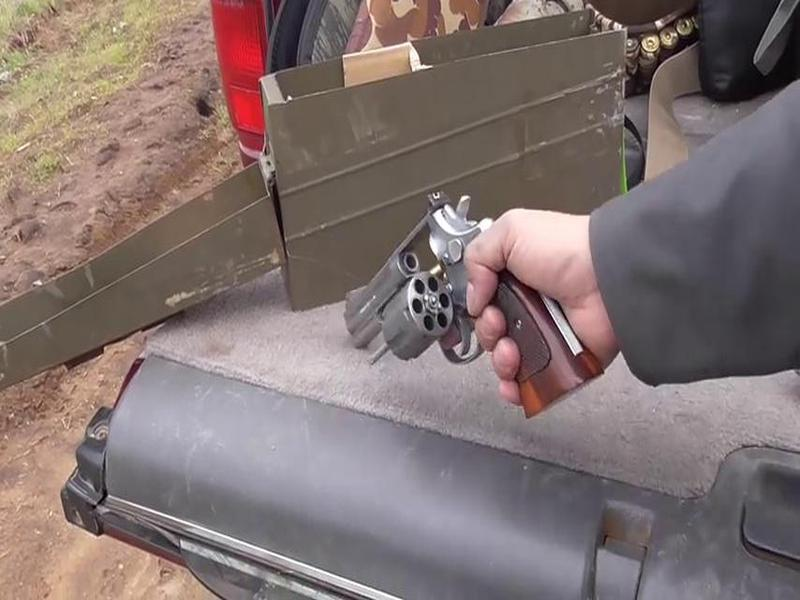Revolver: (305, 197, 624, 405)
